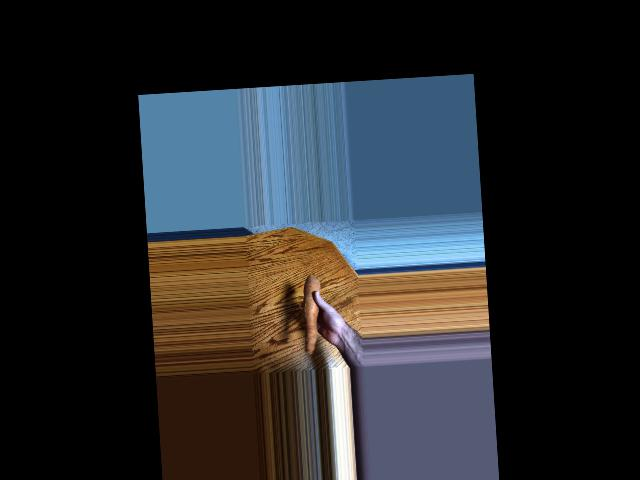sweet_potato: (299, 276, 322, 358)
